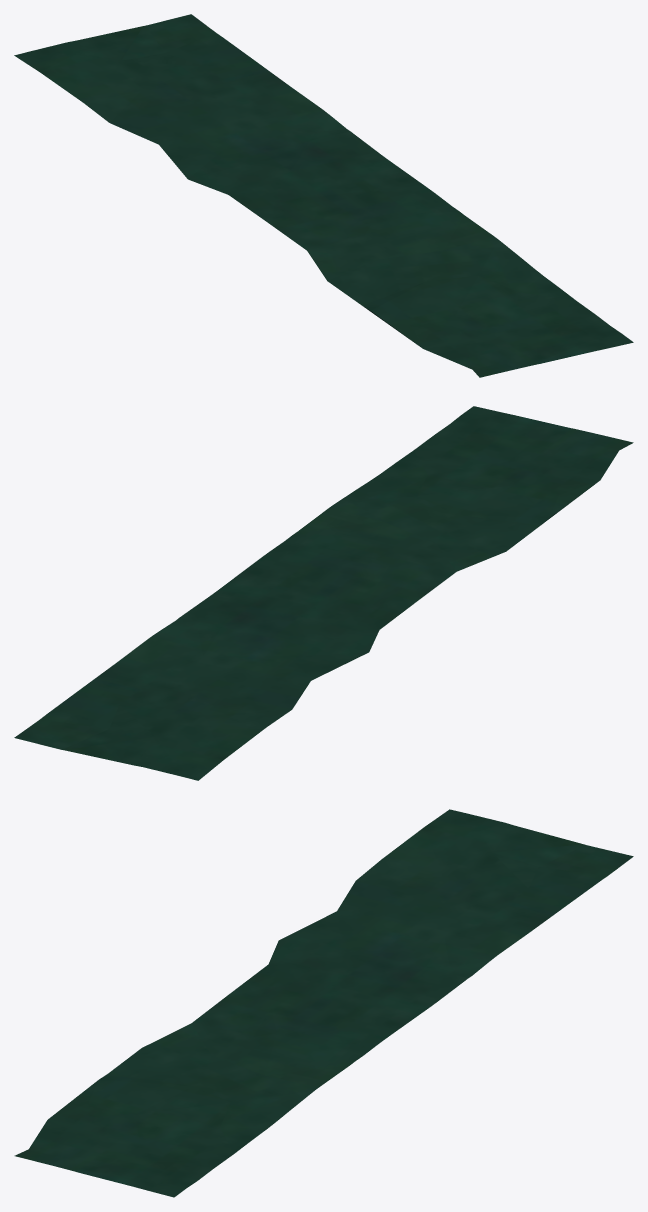
The picture shows the model from 3 angles, top to bottom: view 1: azimuth 30°, elevation 25°; view 2: azimuth 150°, elevation 25°; view 3: azimuth 330°, elevation 25°; orthographic projection. The views are drawn at different scales.
Bounding box in the file's own units: 12.09 × 0.5817 × 52.22.
Materials: 1 (1 with a texture image).
